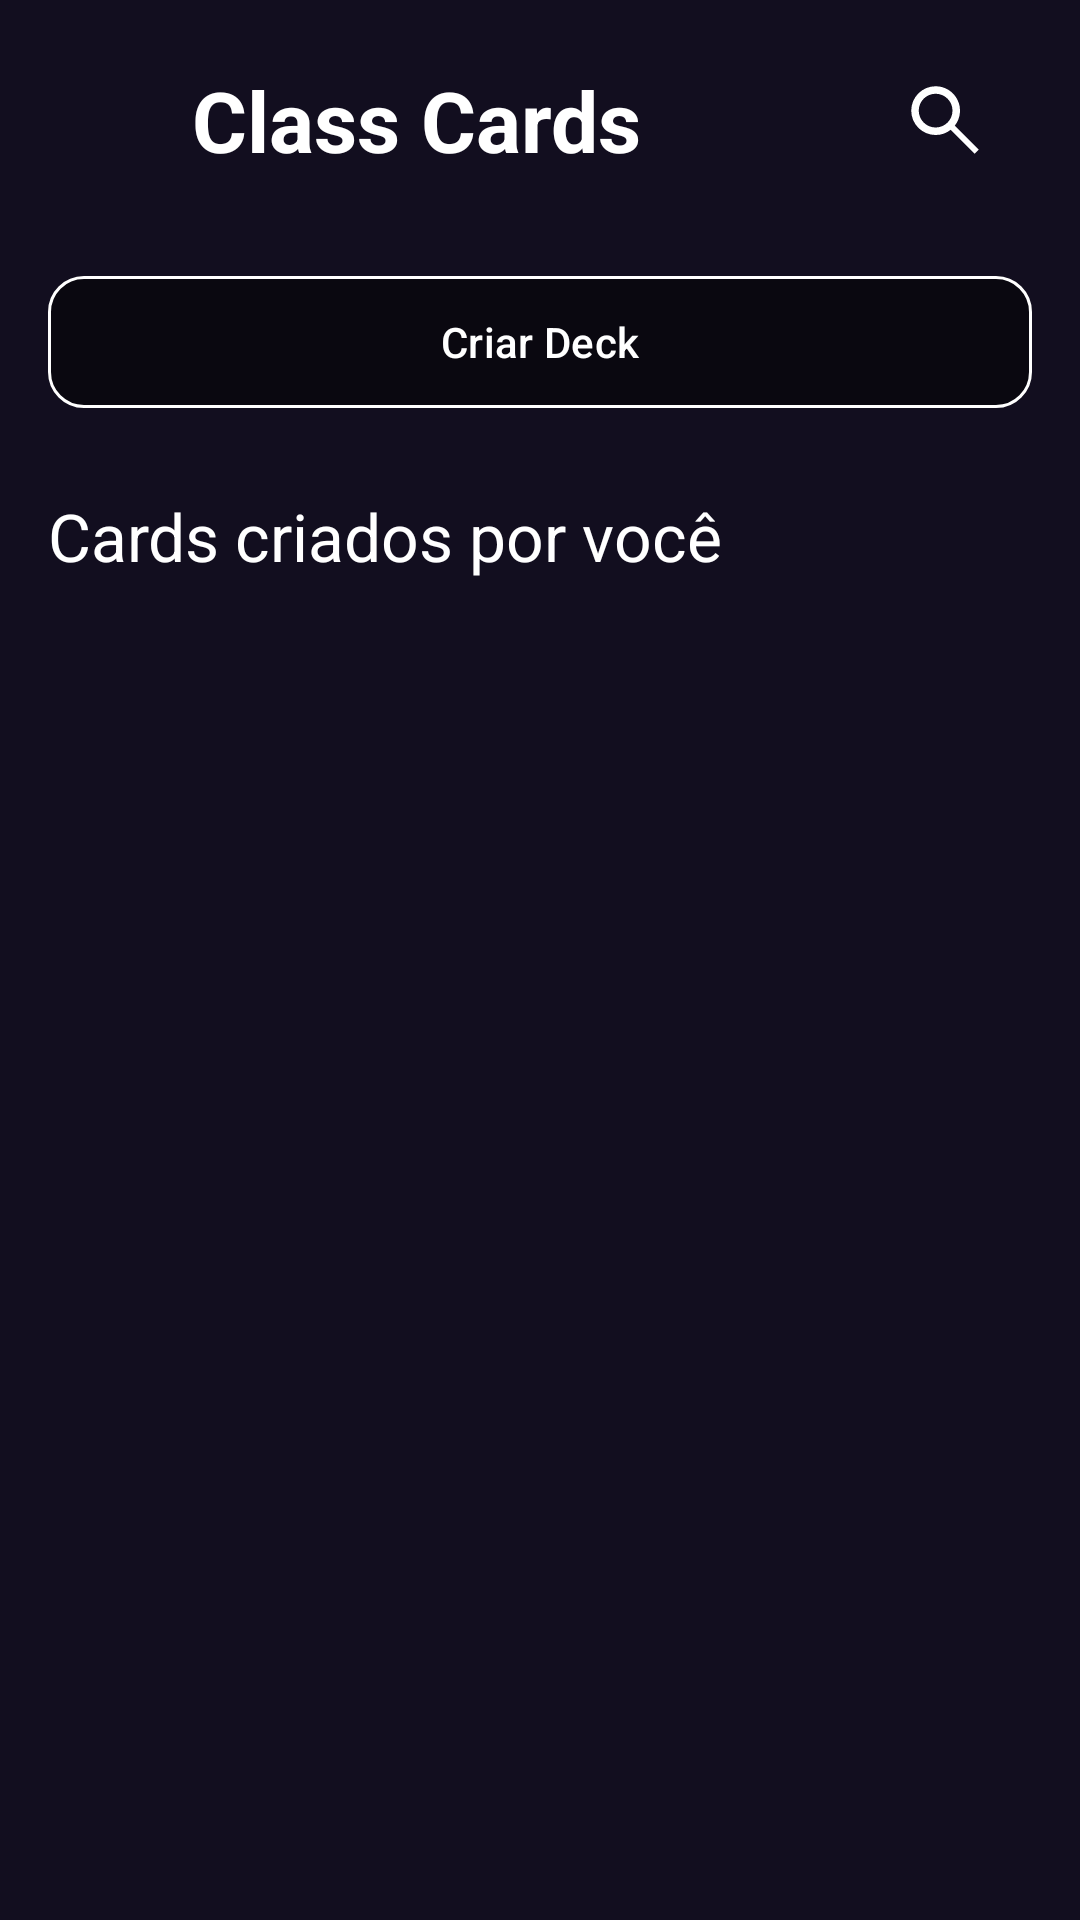

Locate icon controls on the screen. Image size 1080×1920, boxes as region(x1, y1, x2, y2).
Pesquisar decks e usuários: region(911, 86, 979, 154)
